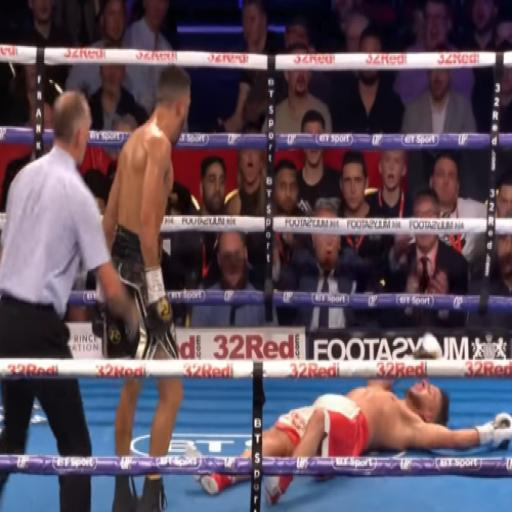boxing: (194, 374, 511, 506)
